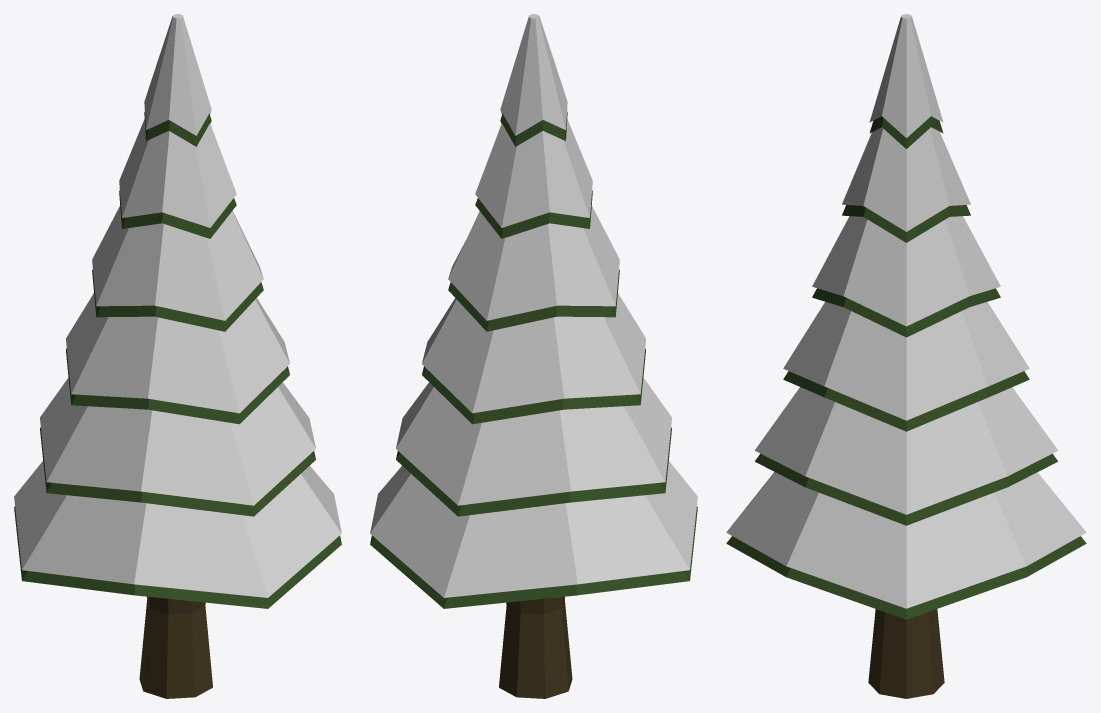
The model's file is cemara.fbx.
3 renders of one model, left to right at view 1: azimuth 30°, elevation 25°; view 2: azimuth 150°, elevation 25°; view 3: azimuth 270°, elevation 25°, orthographic.
Parts seen in each view (by area): view 1: Cylinder; view 2: Cylinder; view 3: Cylinder.
Part boxes in pixels (box(x1,y1,x2,y2)): Cylinder: box(14, 14, 341, 698); Cylinder: box(370, 14, 697, 698); Cylinder: box(726, 14, 1086, 698).
Bounding box in the file's own units: 4.02 × 8.22 × 4.02.
